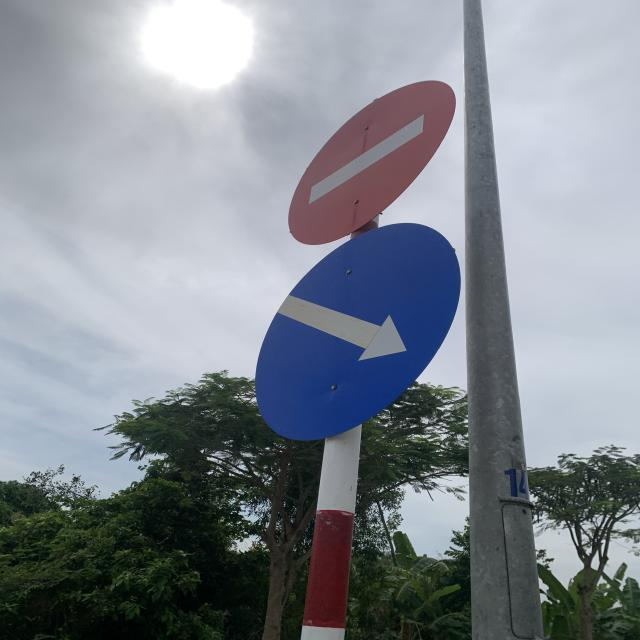Cam_Di_Nguoc_Chieu: (288, 80, 456, 246)
Chi_Huong_Di_Phai: (252, 222, 464, 444)
